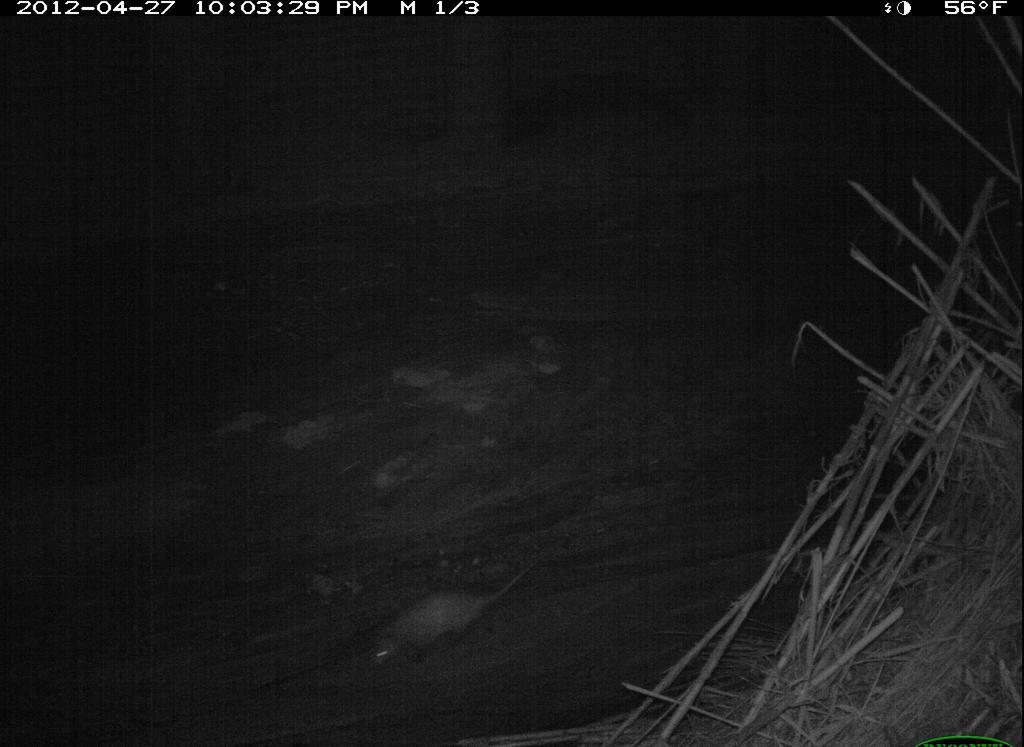opossum: (349, 551, 574, 679)
